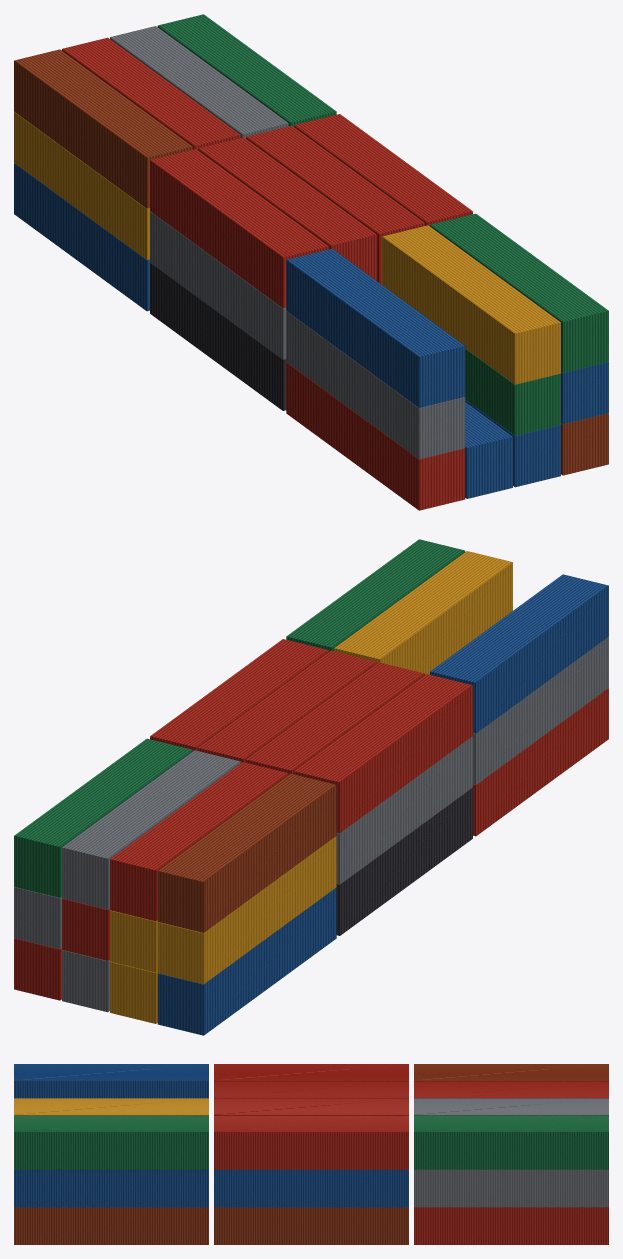
Rendered from container_stack.glb.
The picture shows the model from 3 angles, top to bottom: view 1: azimuth 30°, elevation 25°; view 2: azimuth 150°, elevation 25°; view 3: azimuth 270°, elevation 25°; orthographic projection. The views are drawn at different scales.
Parts seen in each view (by area): view 1: container_stack; view 2: container_stack; view 3: container_stack.
Boxes of the visible parts, x1=… form: container_stack: x1=14, y1=14, x2=608, y2=510; container_stack: x1=14, y1=539, x2=608, y2=1035; container_stack: x1=14, y1=1064, x2=608, y2=1244.
Bounding box in the file's own units: 10.06 × 7.78 × 37.2.
7 materials, 7 textured.
